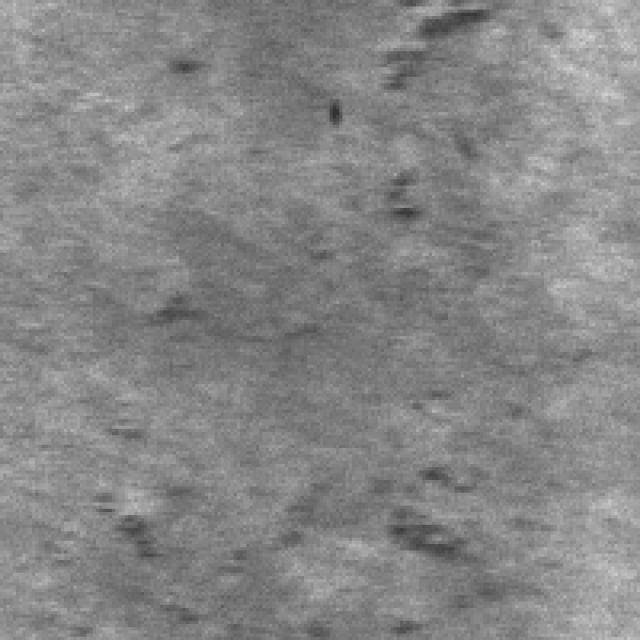rolled-in_scale: (3, 474, 323, 636), (378, 0, 506, 230), (374, 438, 518, 637)
